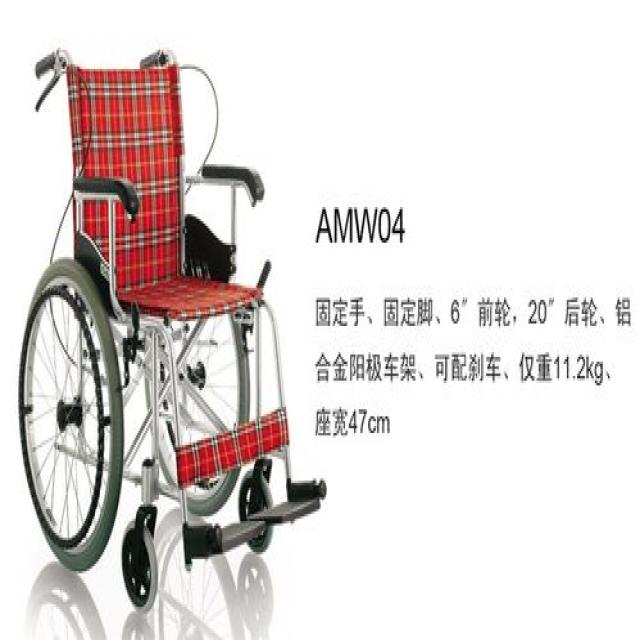wheelchairs: (10, 29, 328, 618)
